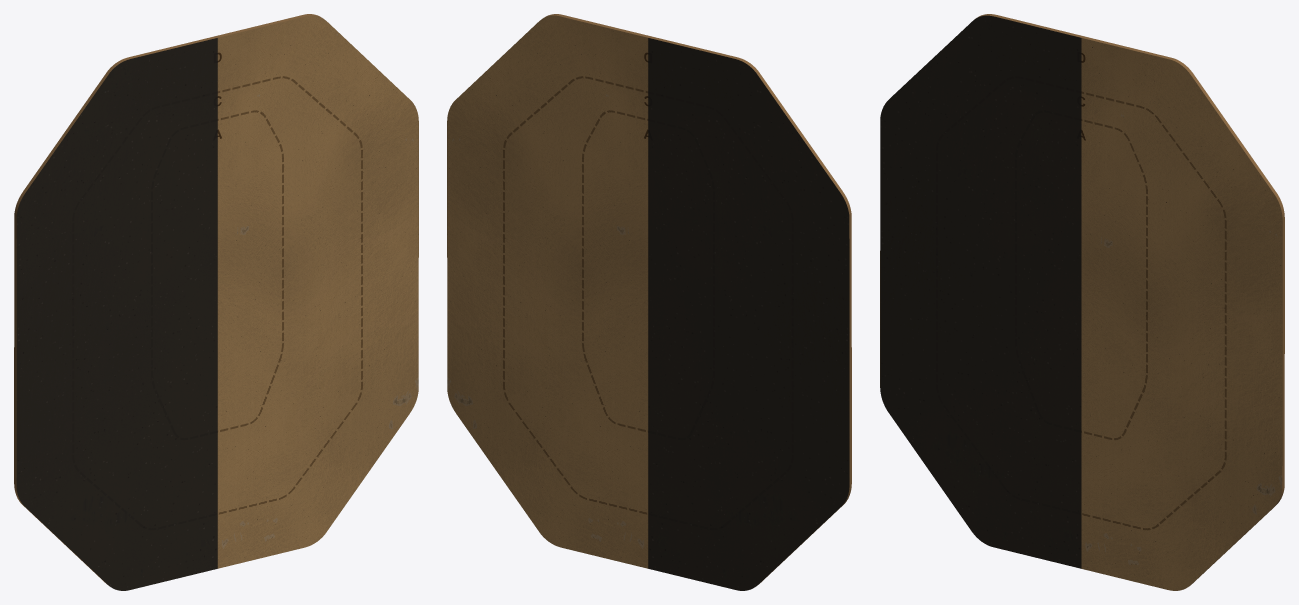
The model's file is obj_paper_hc_half_card.glb.
The picture shows the model from 3 angles, left to right: view 1: azimuth 30°, elevation 25°; view 2: azimuth 150°, elevation 25°; view 3: azimuth 330°, elevation 25°; orthographic projection.
Visible parts, largest first — view 1: card; view 2: card; view 3: card.
Part boxes in pixels (left/top/right/bottom): card: left=14, top=14, right=418, bottom=590; card: left=447, top=14, right=851, bottom=590; card: left=880, top=14, right=1284, bottom=590.
Bounding box in the file's own units: 0.46 × 0.58 × 0.0045.
2 materials, 1 textured.
